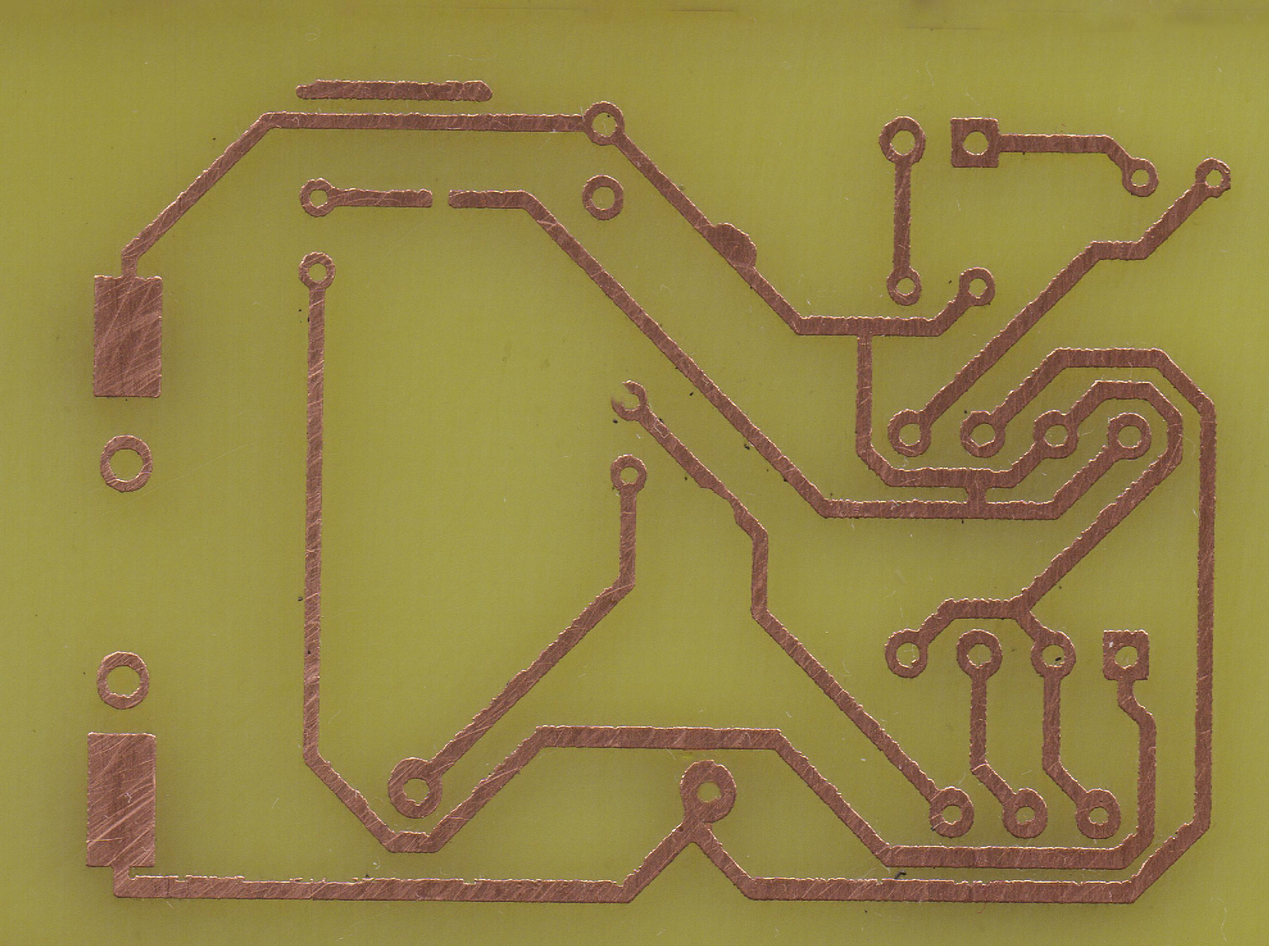missing_hole: (608, 378, 652, 424)
mouse_bite: (698, 472, 746, 532)
open_circuit: (421, 184, 464, 213)
short: (959, 461, 996, 528)
spur: (704, 218, 761, 276)
spurious_copper: (289, 73, 498, 111)
